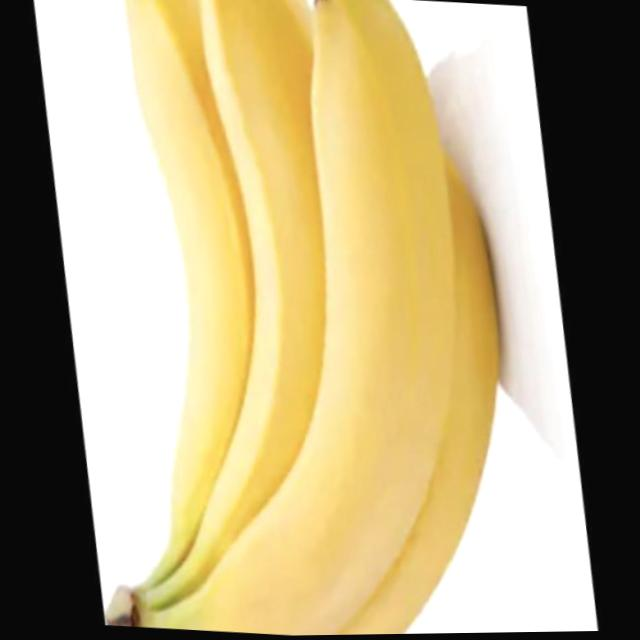Banana: (68, 0, 531, 639)
